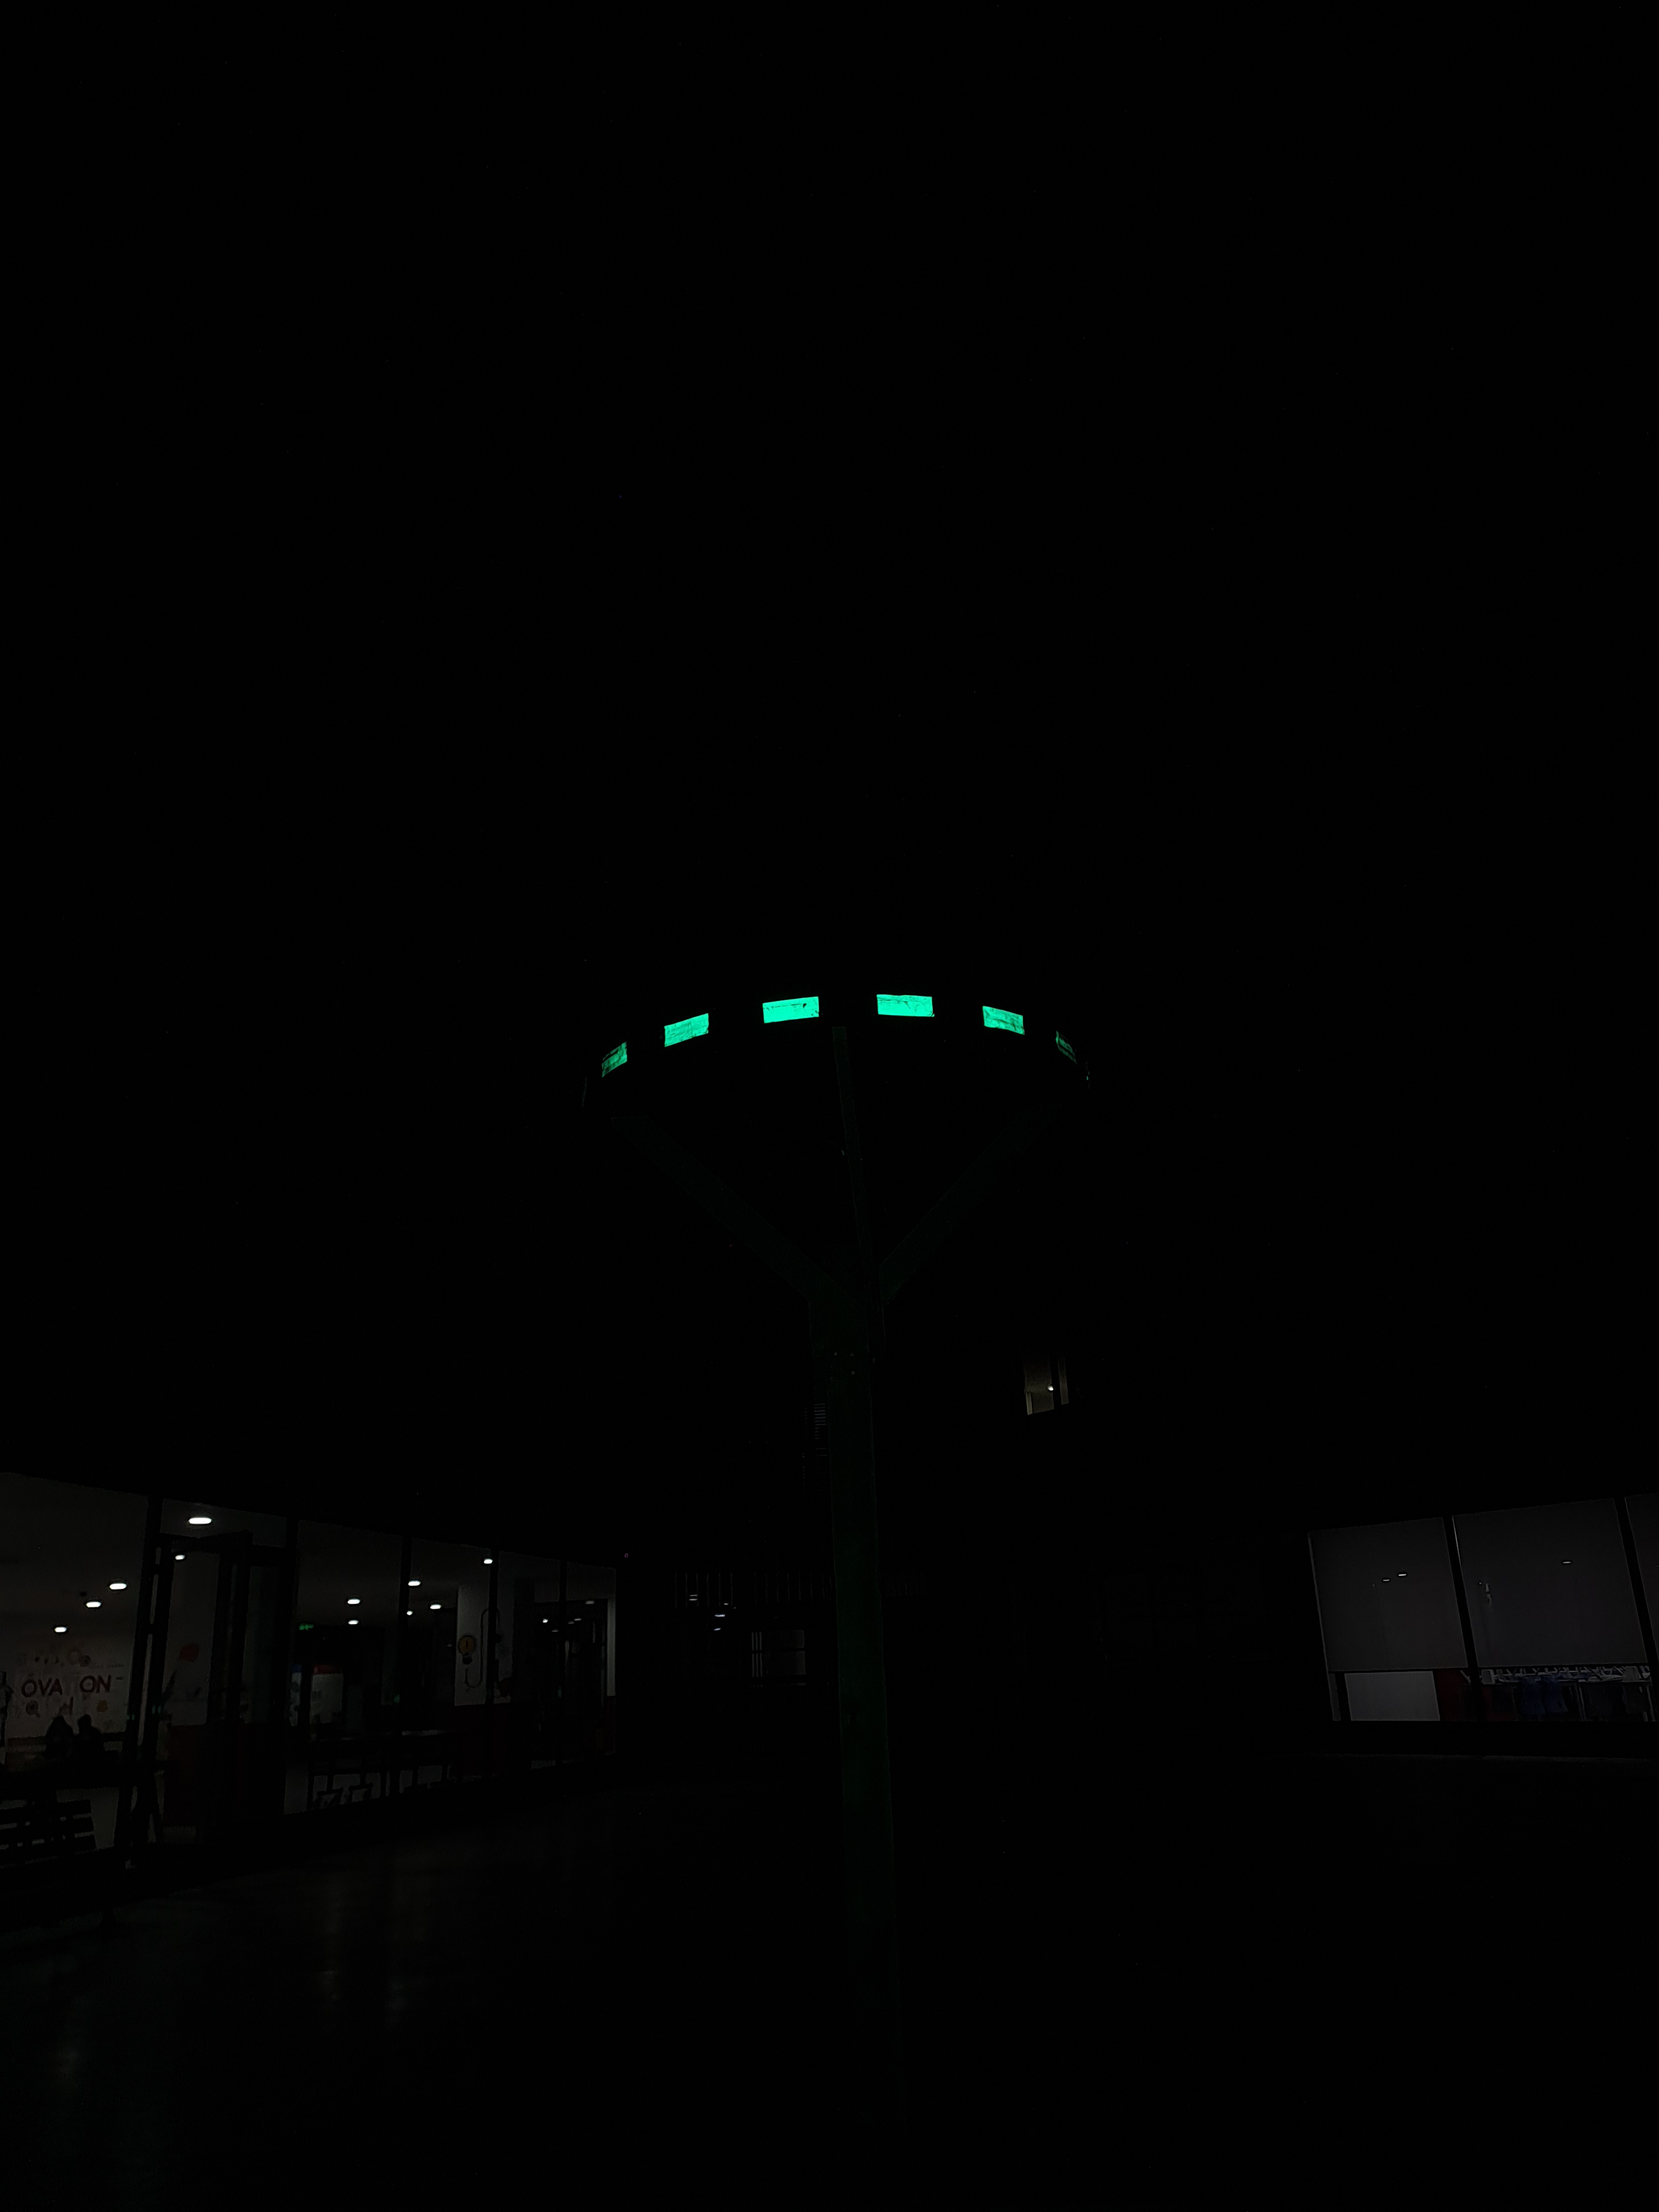hoop: (592, 989, 1032, 1083)
